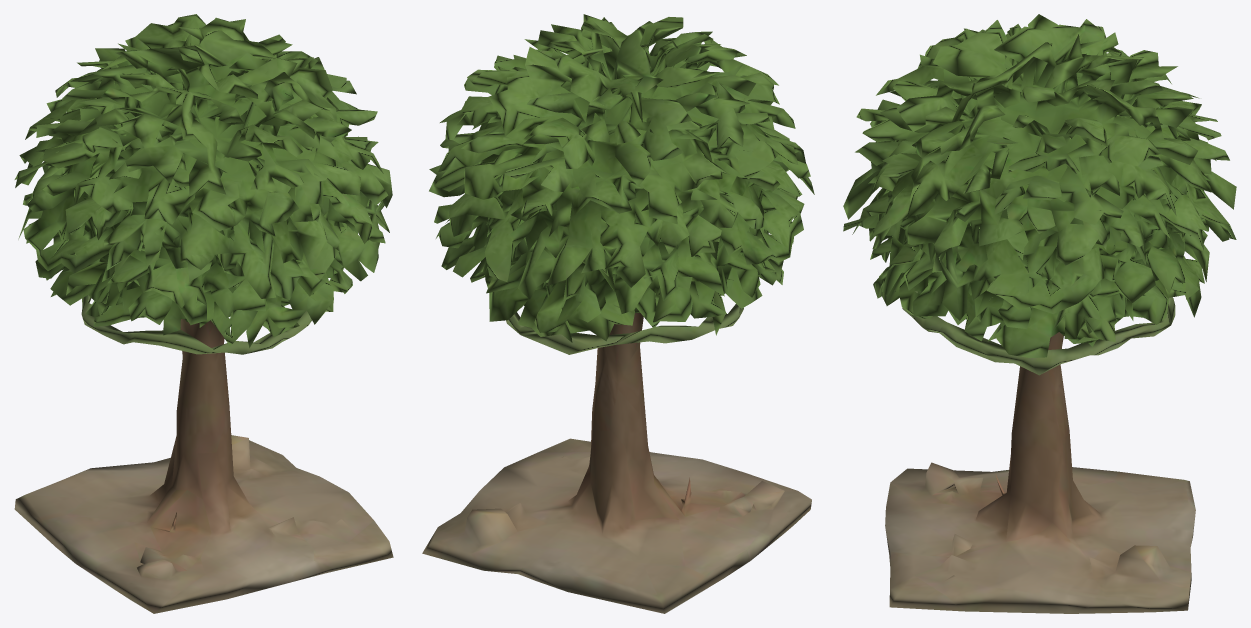
The model's file is tree_neem.glb.
3 renders of one model, left to right at view 1: azimuth 30°, elevation 25°; view 2: azimuth 150°, elevation 25°; view 3: azimuth 270°, elevation 25°, orthographic. The views are drawn at different scales.
Parts seen in each view (by area): view 1: tripo_node_b27c8b61-2ff4-4a3f-bbce-f8ceb20244f2; view 2: tripo_node_b27c8b61-2ff4-4a3f-bbce-f8ceb20244f2; view 3: tripo_node_b27c8b61-2ff4-4a3f-bbce-f8ceb20244f2.
Boxes of the visible parts, bbox=[...] form: tripo_node_b27c8b61-2ff4-4a3f-bbce-f8ceb20244f2: bbox=[14, 14, 393, 613]; tripo_node_b27c8b61-2ff4-4a3f-bbce-f8ceb20244f2: bbox=[422, 14, 814, 613]; tripo_node_b27c8b61-2ff4-4a3f-bbce-f8ceb20244f2: bbox=[843, 14, 1236, 613].
Bounding box in the file's own units: 0.6845 × 1 × 0.6942.
1 material, 1 textured.
